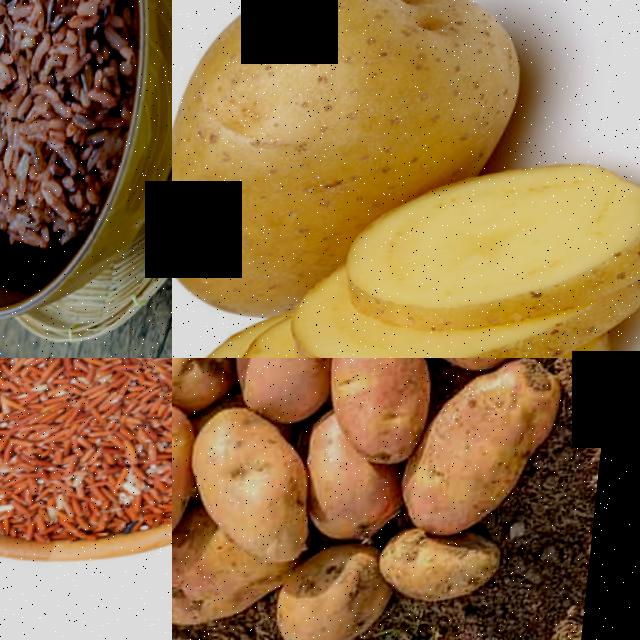potato: (172, 0, 538, 200), (395, 365, 579, 543), (188, 405, 329, 573), (322, 358, 435, 477), (384, 527, 517, 611), (280, 547, 397, 640), (172, 405, 211, 552)
red rice: (0, 0, 159, 261), (0, 358, 172, 546)
